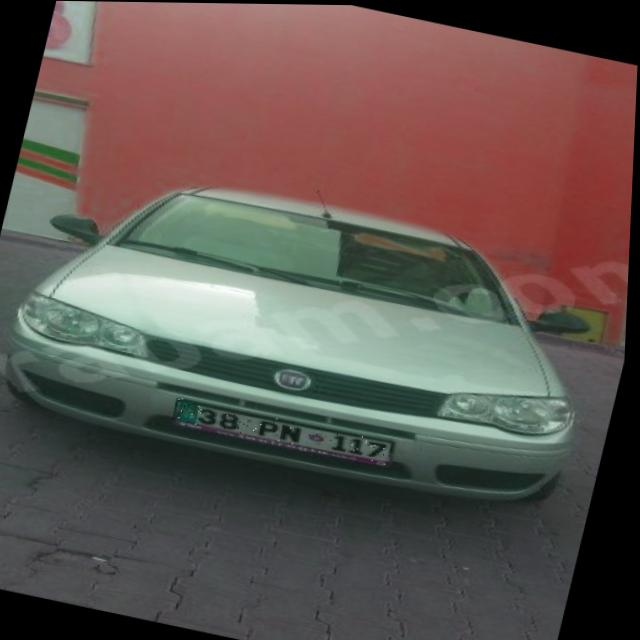license_plate: (174, 397, 400, 464)
